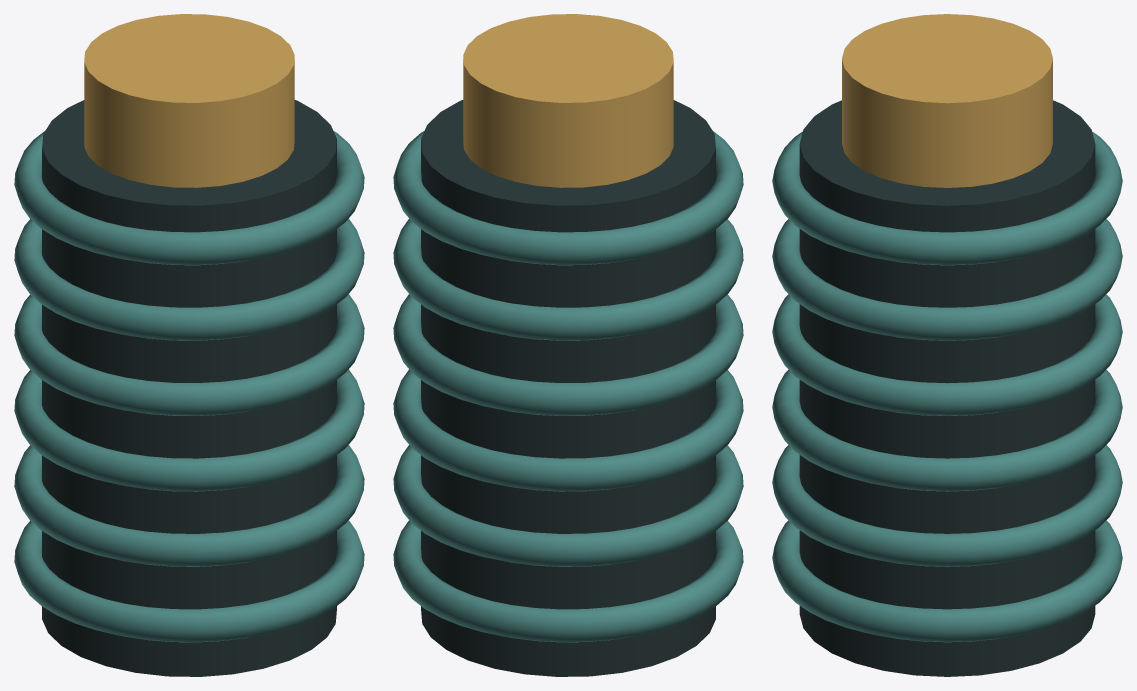
The model's file is wp-reacteur-d-energie.glb.
3 views of the same model, side by side, from view 1: azimuth 30°, elevation 25°; view 2: azimuth 150°, elevation 25°; view 3: azimuth 270°, elevation 25° (orthographic).
Parts seen in each view (by area): view 1: wp-reacteur-d-energie; view 2: wp-reacteur-d-energie; view 3: wp-reacteur-d-energie.
Part boxes in pixels (x1,y1,x2,y2): wp-reacteur-d-energie: (14, 14, 364, 676); wp-reacteur-d-energie: (393, 14, 743, 676); wp-reacteur-d-energie: (772, 14, 1122, 676).
Size of the model in its own units: 0.8 by 1.4 by 0.8.
